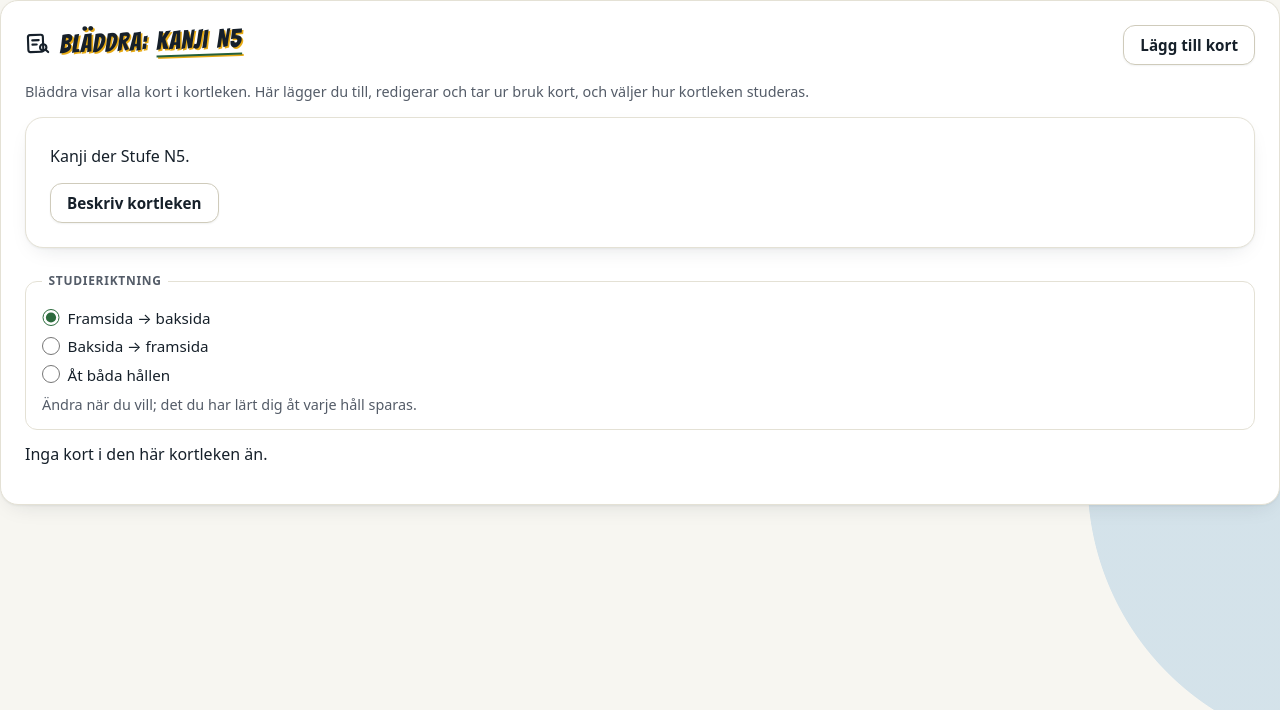
Test case: BrowserScreen in Swedish › edits first the description the reader sees, marked with its language
Click the button "Beskriv kortleken": coordinates (134, 203) [50,183,218,223]
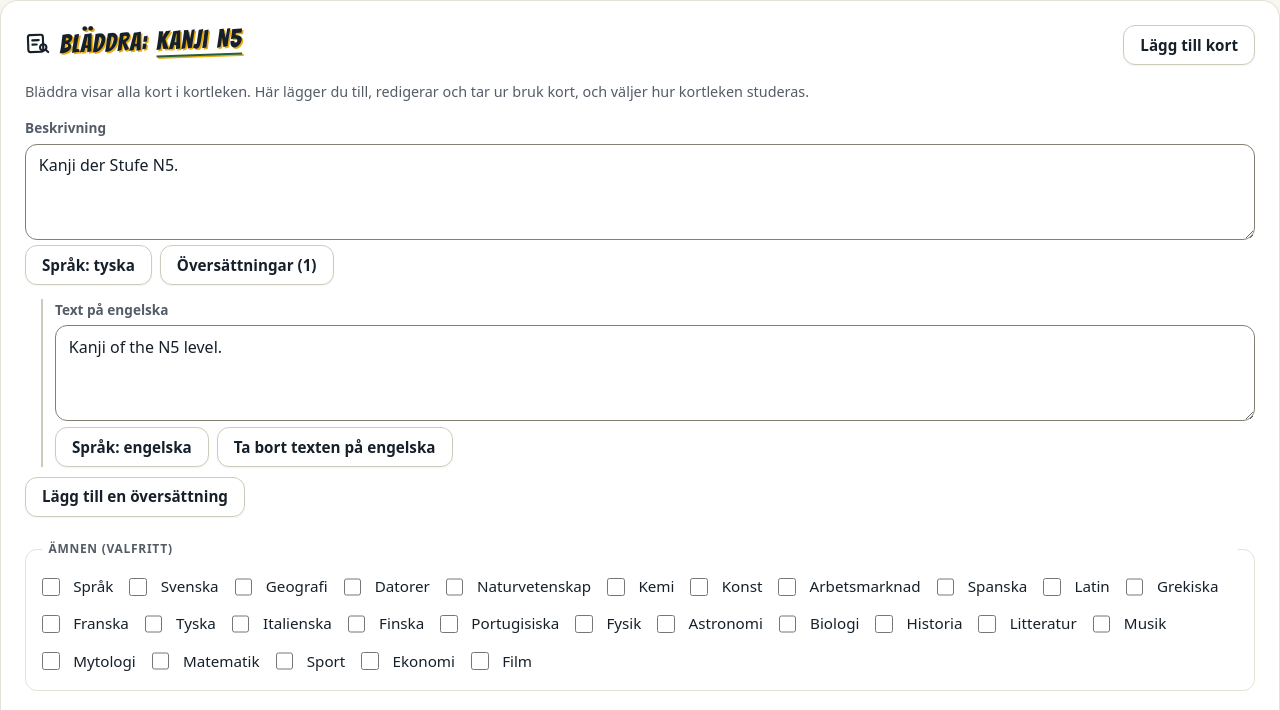
Now the text box labelled "Beskrivning" holds "Kanji der Stufe N5.", box [25,144,1255,240]
Now the text box labelled "Text på engelska" holds "Kanji of the N5 level.", box [55,325,1255,421]
